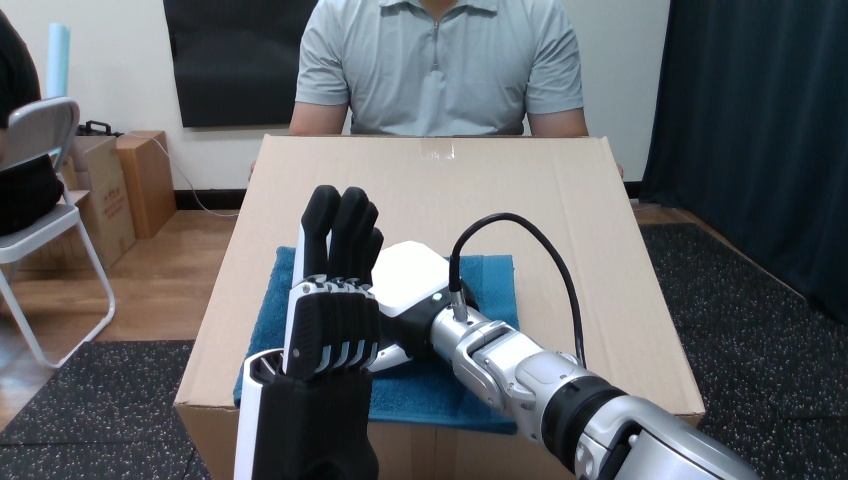left robot hand: (234, 185, 756, 479), (458, 219, 576, 356)
